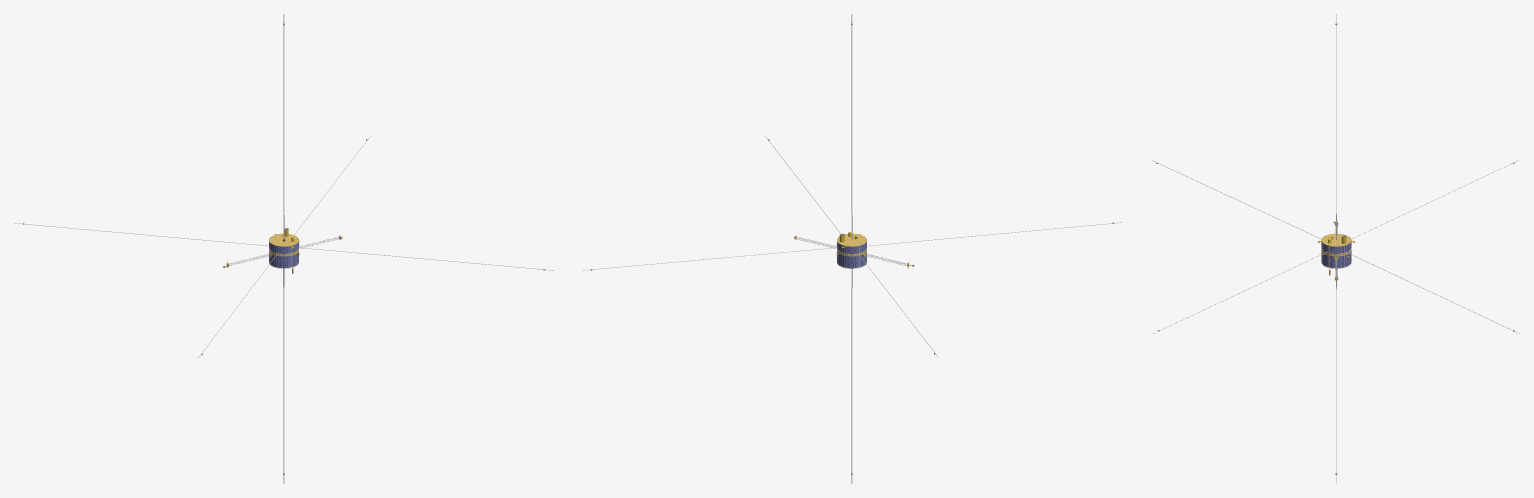
The model's file is wind.glb.
3 renders of one model, left to right at view 1: azimuth 30°, elevation 25°; view 2: azimuth 150°, elevation 25°; view 3: azimuth 270°, elevation 25°, orthographic.
Visible parts, largest first — view 1: Layer_0; view 2: Layer_0; view 3: Layer_0.
Part boxes in pixels (left/top/right/bottom): Layer_0: left=14, top=14, right=553, bottom=483; Layer_0: left=582, top=14, right=1122, bottom=483; Layer_0: left=1151, top=14, right=1519, bottom=483.
Size of the model in its own units: 41.62 by 52.43 by 37.3.
